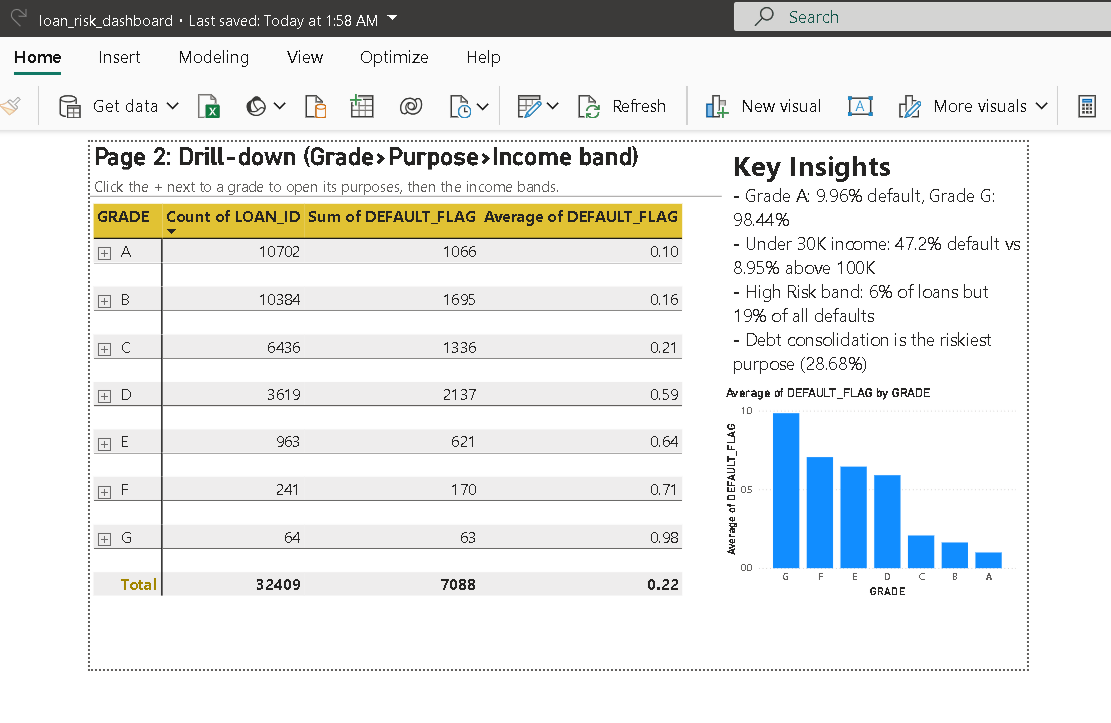

The dashboard page shown, as its layout file describes it:
{"tool":"powerbi","page":{"name":"Page 2","canvas":[1280,720],"ordinal":1},"visuals":[{"type":"pivotTable","title":"Page 2: Drill-down (Grade>Purpose>Income band)","fields":{"Rows":["final_loan_risk_analysis.GRADE","final_loan_risk_analysis.PURPOSE","final_loan_risk_analysis.INCOME_BAND"],"Values":["CountNonNull(final_loan_risk_analysis.LOAN_ID)","Sum(final_loan_risk_analysis.DEFAULT_FLAG)","Avg(final_loan_risk_analysis.DEFAULT_FLAG)"]},"box":[0,0,863.3,641.7],"z":0},{"type":"textbox","box":[873.3,0,406.7,348.3],"z":1},{"type":"clusteredColumnChart","fields":{"Category":["final_loan_risk_analysis.GRADE"],"Y":["Avg(final_loan_risk_analysis.DEFAULT_FLAG)"]},"box":[863.3,333.3,406.7,293.3],"z":2}]}

Visuals, with their boxes on the page's 1280x720 design canvas (x1, y1, x2, y2). These are canvas units, not pixel positions in the 1111x723 screenshot, which may show the page scaled, cropped or inside an application window:
"Page 2: Drill-down (Grade>Purpose>Income band)" pivotTable: bbox=(0, 0, 863, 642)
textbox: bbox=(873, 0, 1280, 348)
clusteredColumnChart - final_loan_risk_analysis.GRADE x Avg(final_loan_risk_analysis.DEFAULT_FLAG): bbox=(863, 333, 1270, 627)
